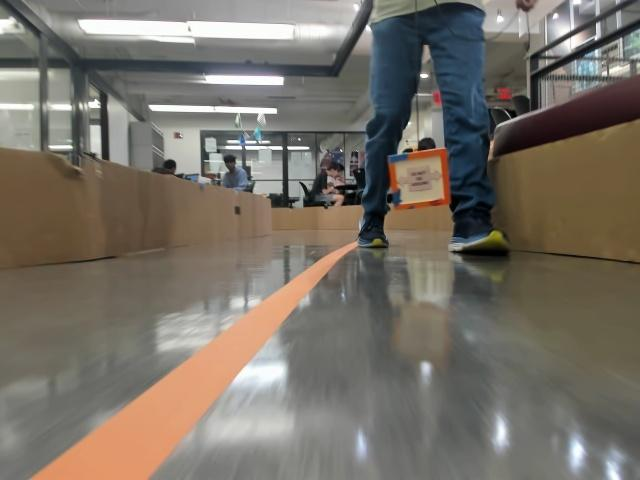Do Not Go Around: (395, 170, 439, 195)
